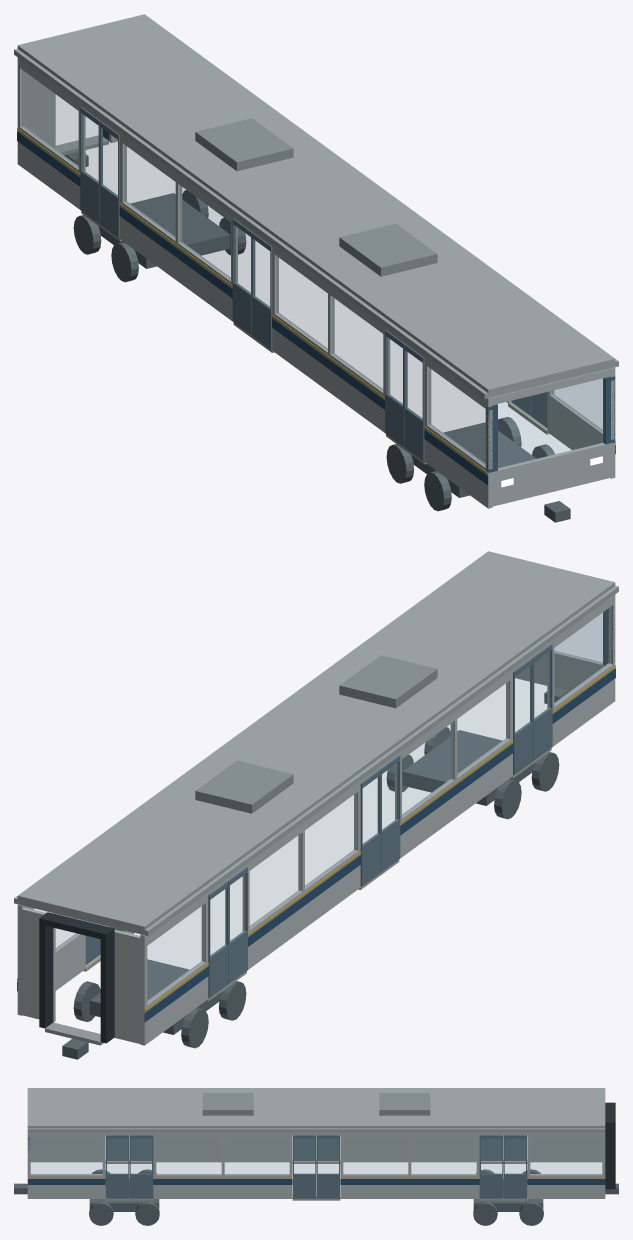
The model's file is expo-metro-lead-exterior.lod0.glb.
The picture shows the model from 3 angles, top to bottom: view 1: azimuth 30°, elevation 25°; view 2: azimuth 150°, elevation 25°; view 3: azimuth 270°, elevation 25°; orthographic projection. The views are drawn at different scales.
Visible parts, largest first — view 1: body-shell, glass, bogie-rear-frame, door-right-front-b, door-right-rear-b, door-right-center-b, door-right-center-a, door-right-rear-a, door-right-front-a, bogie-front-frame, wheel-front-front-right, wheel-rear-front-right (+2 smaller); view 2: body-shell, glass, bogie-front-frame, door-right-rear-a, door-right-front-a, door-right-center-a, door-right-center-b, door-right-front-b, door-right-rear-b, bogie-rear-frame, wheel-rear-rear-right, wheel-front-rear-right (+3 smaller); view 3: body-shell, glass, door-left-front-a, door-left-rear-b, door-left-center-a, door-left-center-b, door-left-front-b, door-left-rear-a, bogie-front-frame, bogie-rear-frame, door-right-center-a, door-right-center-b (+8 smaller).
Boxes of the visible parts, x1,y1,x2,y2 form: body-shell: (14, 14, 618, 522); glass: (22, 70, 604, 469); bogie-rear-frame: (98, 193, 230, 268); door-right-front-b: (404, 344, 424, 461); door-right-rear-b: (99, 121, 119, 237); door-right-center-b: (252, 232, 272, 349); door-right-center-a: (232, 218, 252, 335); door-right-rear-a: (80, 107, 100, 223); door-right-front-a: (385, 330, 404, 446); bogie-front-frame: (411, 422, 536, 497); wheel-front-front-right: (424, 471, 451, 511); wheel-rear-front-right: (111, 242, 138, 282); body-shell: (14, 551, 618, 1059); glass: (34, 607, 610, 1002); bogie-front-frame: (402, 730, 534, 805); door-right-rear-a: (208, 881, 228, 998); door-right-front-a: (513, 658, 533, 774); door-right-center-a: (360, 769, 380, 886); door-right-center-b: (380, 755, 400, 872); door-right-front-b: (532, 644, 552, 760); door-right-rear-b: (228, 867, 247, 983); bogie-rear-frame: (89, 959, 221, 1034); wheel-rear-rear-right: (181, 1008, 208, 1048); wheel-front-rear-right: (494, 779, 521, 819); body-shell: (14, 1088, 618, 1200); glass: (31, 1139, 601, 1174); door-left-front-a: (129, 1135, 153, 1198); door-left-rear-b: (479, 1135, 503, 1198); door-left-center-a: (316, 1135, 339, 1198); door-left-center-b: (293, 1135, 316, 1198); door-left-front-b: (106, 1135, 129, 1198); door-left-rear-a: (503, 1135, 526, 1198); bogie-front-frame: (89, 1178, 159, 1211); bogie-rear-frame: (473, 1178, 543, 1211); door-right-center-a: (317, 1138, 338, 1160); door-right-center-b: (294, 1138, 315, 1160).
Size of the model in its own units: 2.8 by 3.48 by 17.8.
